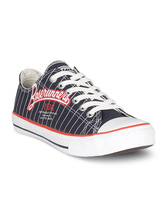shoes: (12, 55, 158, 159)
